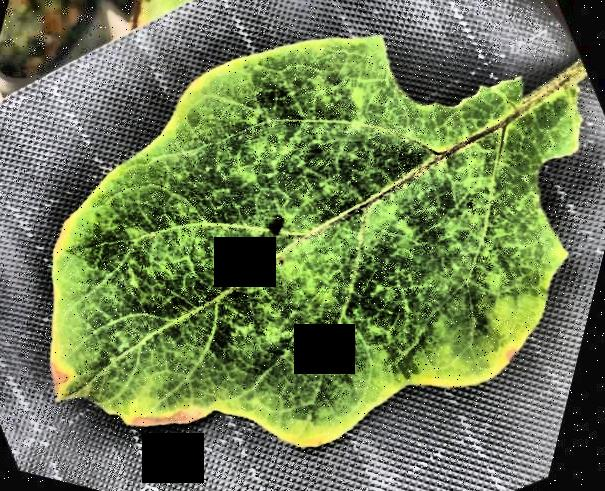Non-critical Stress: (0, 1, 605, 491)
